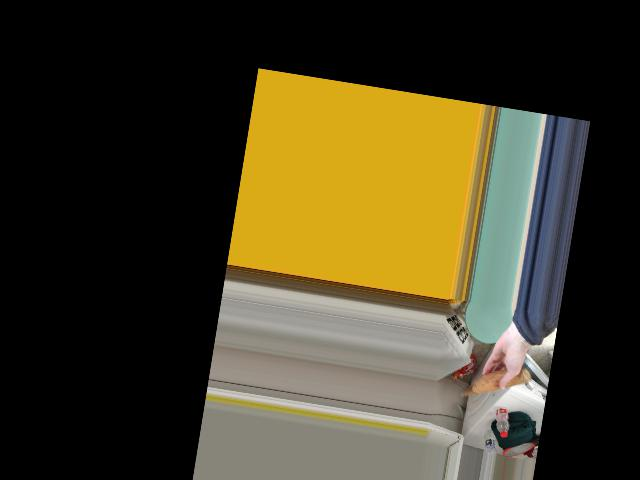sweet_potato: (476, 362, 527, 402)
